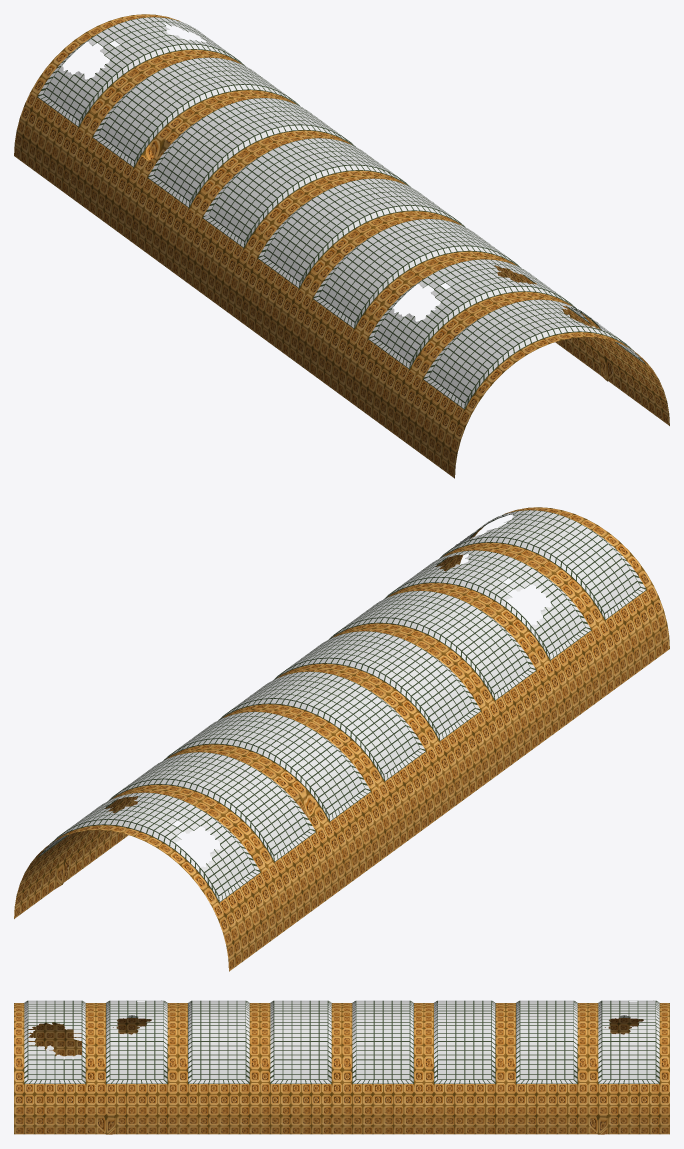
Rendered from hall_cassé 1.fbx.
3 renders of one model, top to bottom at view 1: azimuth 30°, elevation 25°; view 2: azimuth 150°, elevation 25°; view 3: azimuth 270°, elevation 25°, orthographic. The views are drawn at different scales.
Visible parts, largest first — view 1: Cylinder.039; view 2: Cylinder.039; view 3: Cylinder.039.
Part boxes in pixels (<box>): Cylinder.039: <box>14,14,669,478</box>; Cylinder.039: <box>14,507,669,971</box>; Cylinder.039: <box>14,1000,669,1134</box>.
Size of the model in its own units: 5302 by 2761 by 18830.
